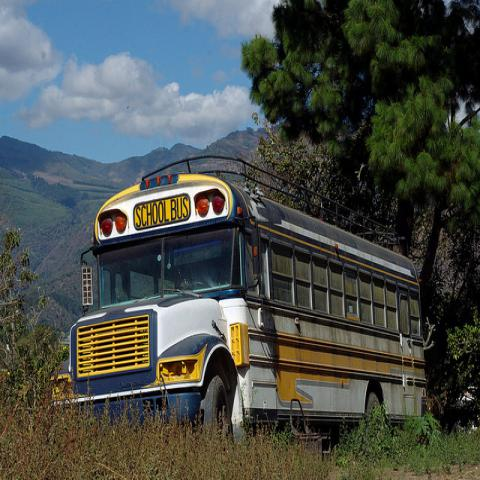bus: (50, 169, 438, 452)
